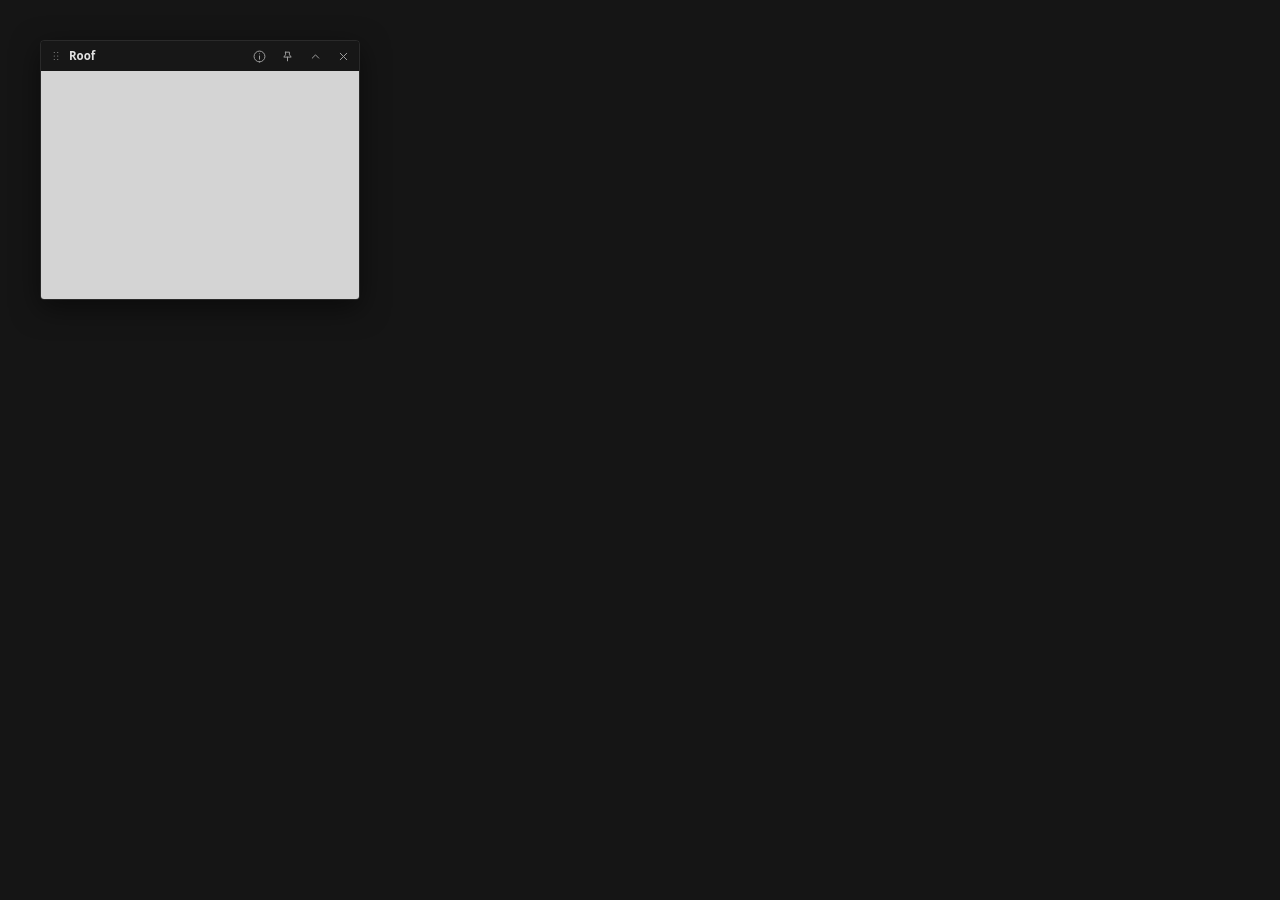
Test: the details › unfolds the dates, the source and the notes under the title
Click the button named "Details". click: (259, 56)
box: [248,45,270,67]
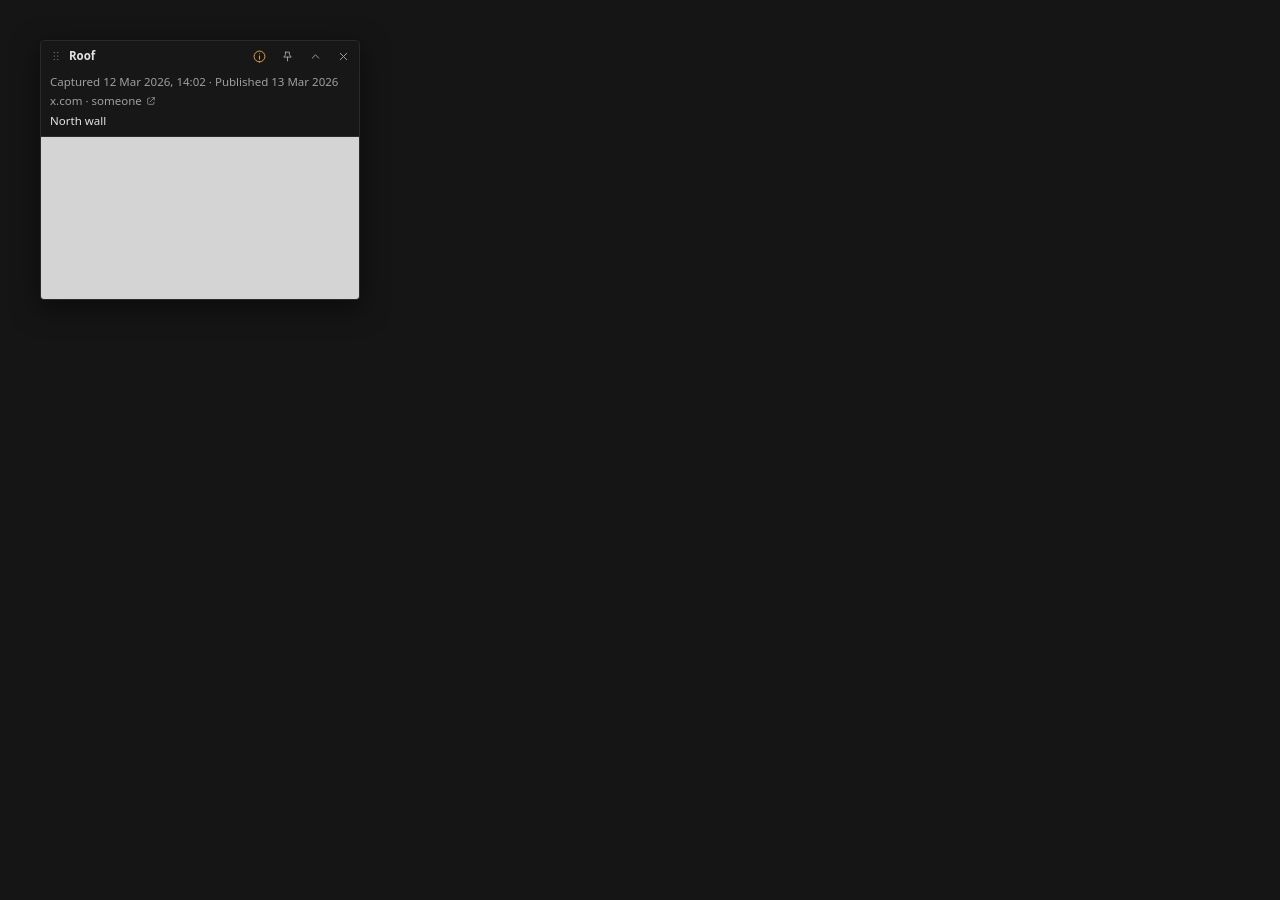
Expected: the element with class "rv-facts" shows "Captured 12 Mar 2026, 14:02 · Published 13 Mar 2026", [50,74,338,89]
Expected: the element with class "rv-facts" shows "North wall", [50,112,106,128]
Expected: the link "x.com · someone" is shown, [50,92,156,110]
